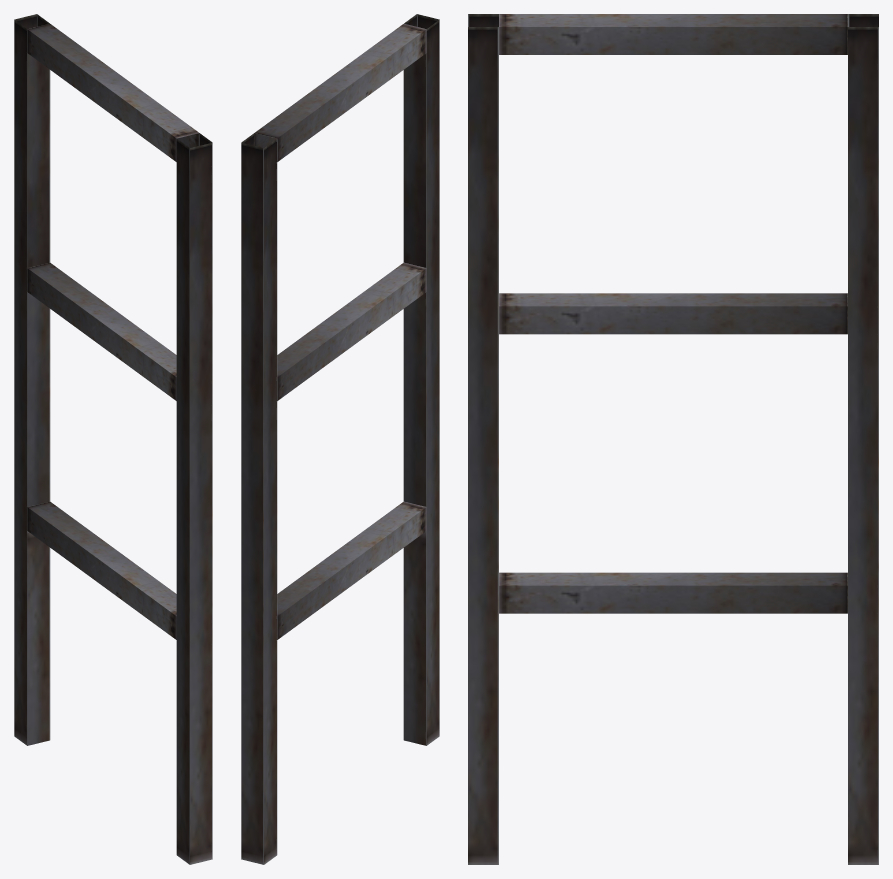
File: Ladder.fbx
3 views of the same model, side by side, from view 1: azimuth 30°, elevation 25°; view 2: azimuth 150°, elevation 25°; view 3: azimuth 270°, elevation 25° (orthographic). The views are drawn at different scales.
Parts seen in each view (by area): view 1: Ladder.001; view 2: Ladder.001; view 3: Ladder.001.
Part boxes in pixels (x1,y1,x2,y2): Ladder.001: (14, 14, 212, 864); Ladder.001: (241, 14, 439, 864); Ladder.001: (468, 14, 878, 864).
Bounding box in the file's own units: 6 × 180 × 80.
Materials: 1 (1 with a texture image).
